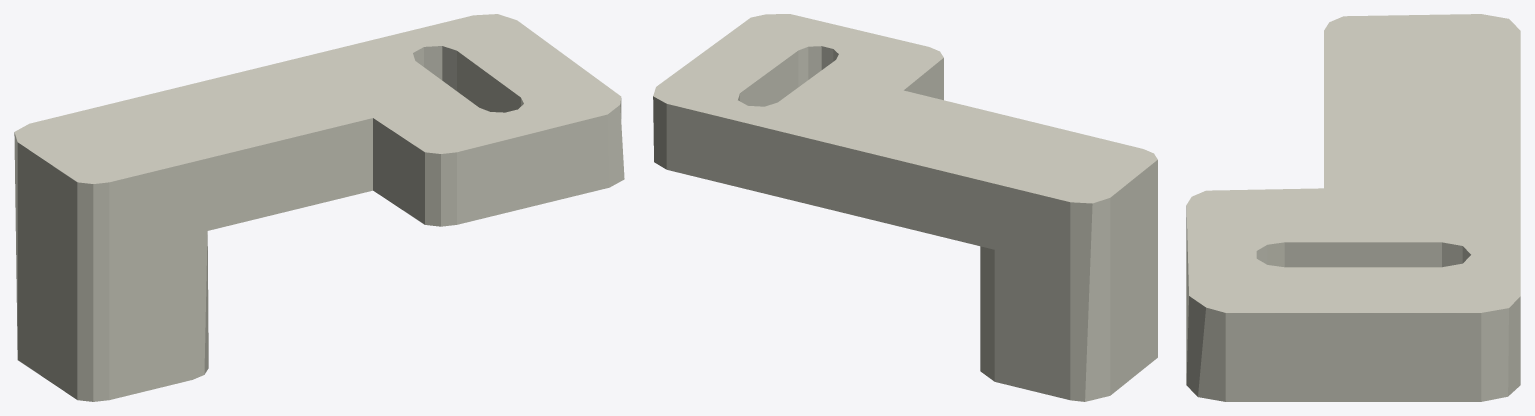
File: 4_Detail.fbx
The picture shows the model from 3 angles, left to right: view 1: azimuth 30°, elevation 25°; view 2: azimuth 150°, elevation 25°; view 3: azimuth 270°, elevation 25°; orthographic projection. The views are drawn at different scales.
Parts seen in each view (by area): view 1: 4_Detail; view 2: 4_Detail; view 3: 4_Detail.
Part boxes in pixels (x1,y1,x2,y2): 4_Detail: (14,14,624,401); 4_Detail: (653,14,1157,401); 4_Detail: (1186,14,1520,401).
Size of the model in its own units: 3600 by 1500 by 1700.
2 materials, 2 textured.
